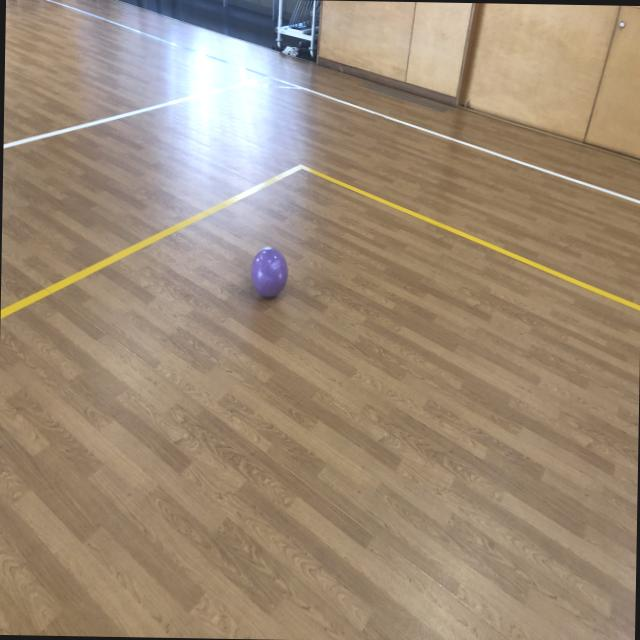purple_ball: (250, 244, 289, 300)
